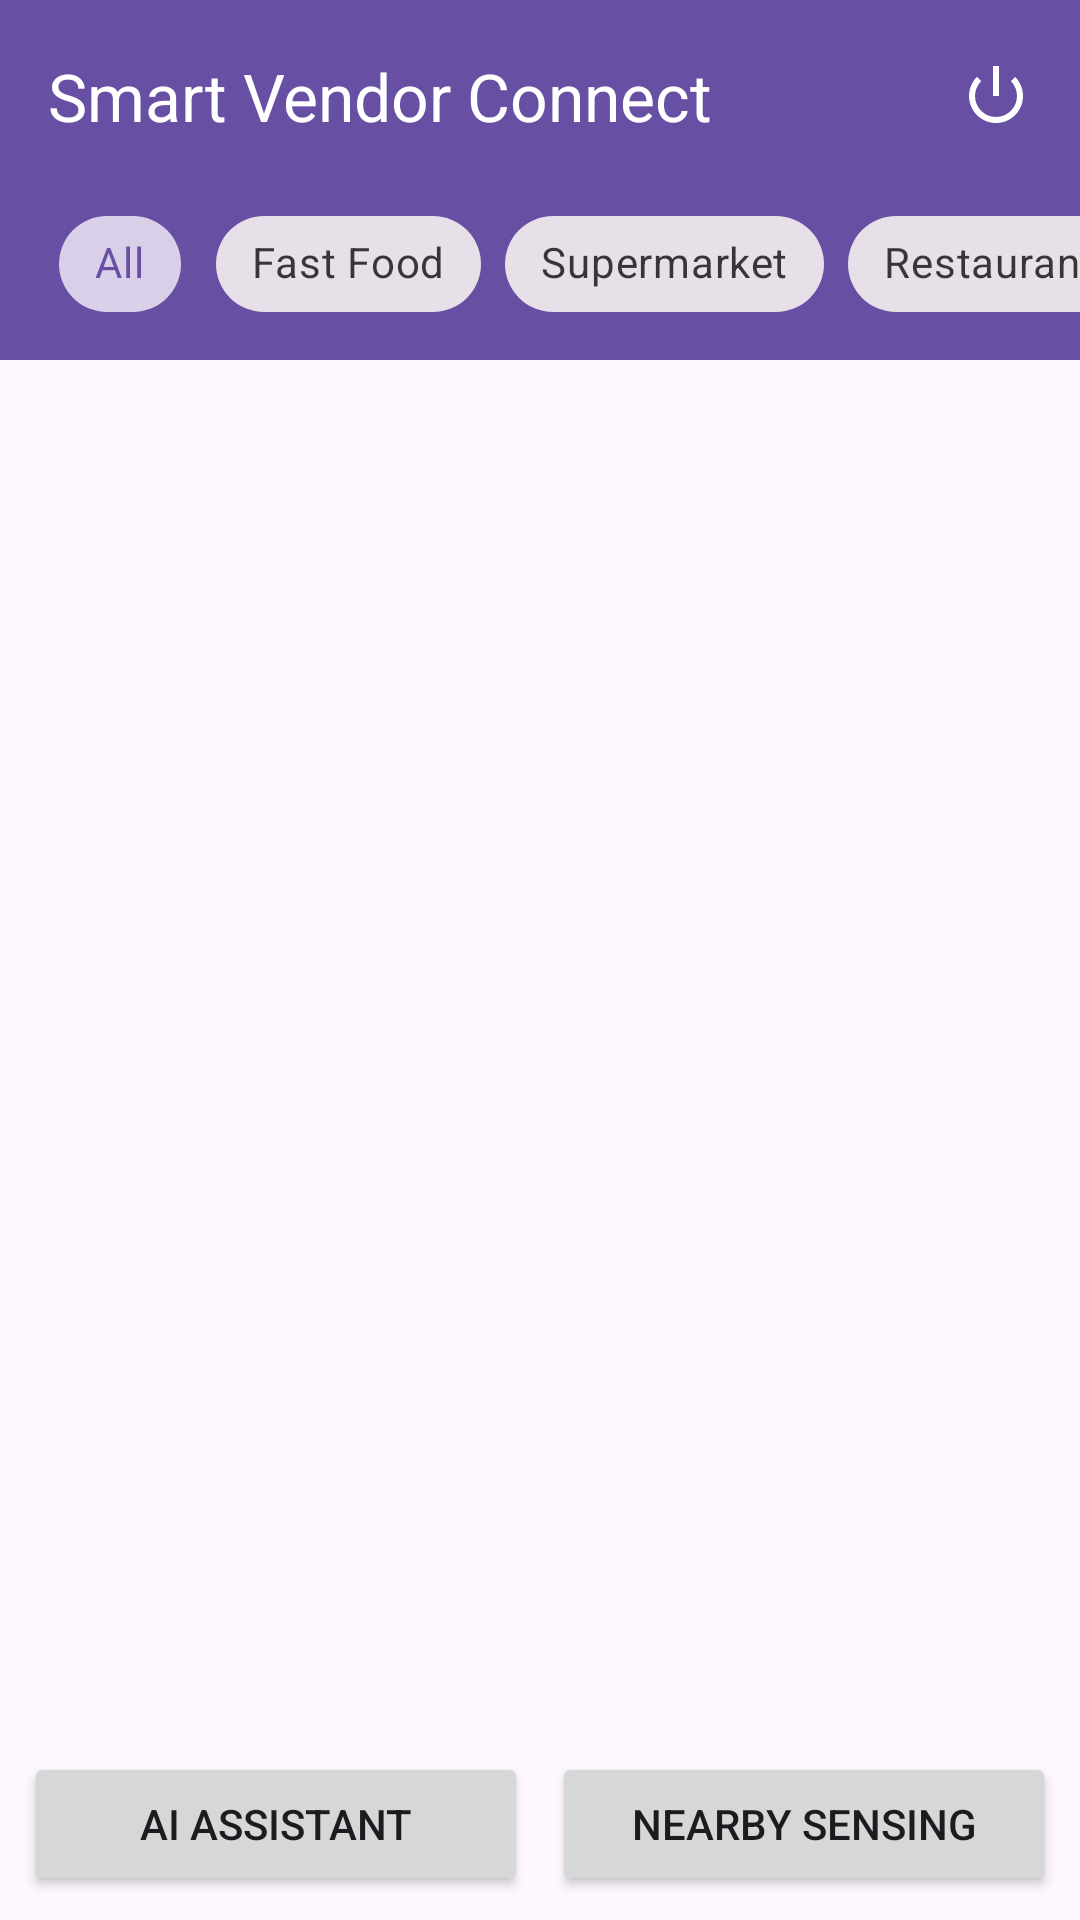

Icons on this 1080w x 1920h Android screen, each with the point to tap as (x=x, y=y):
lock power off: (x=996, y=94)
